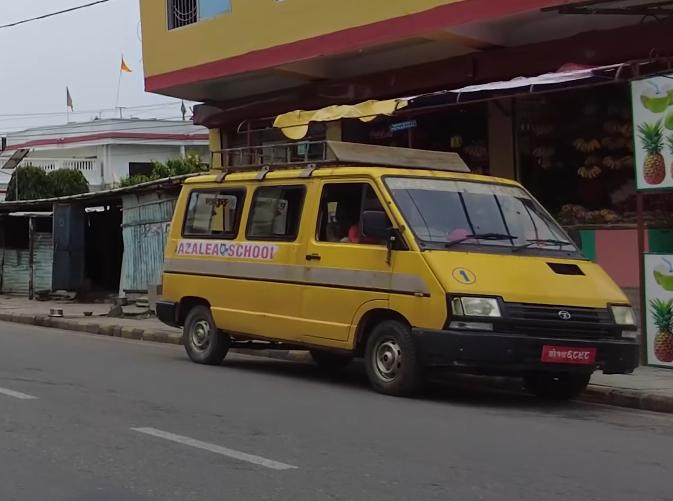school_bus: (151, 139, 645, 411)
